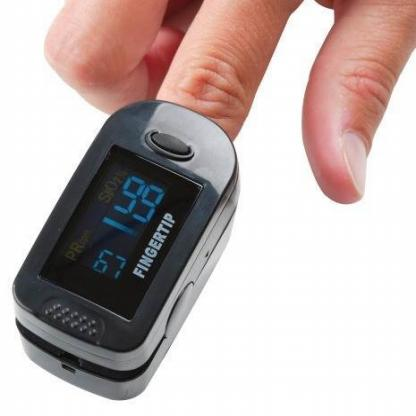Displays: (58, 162, 169, 281)
